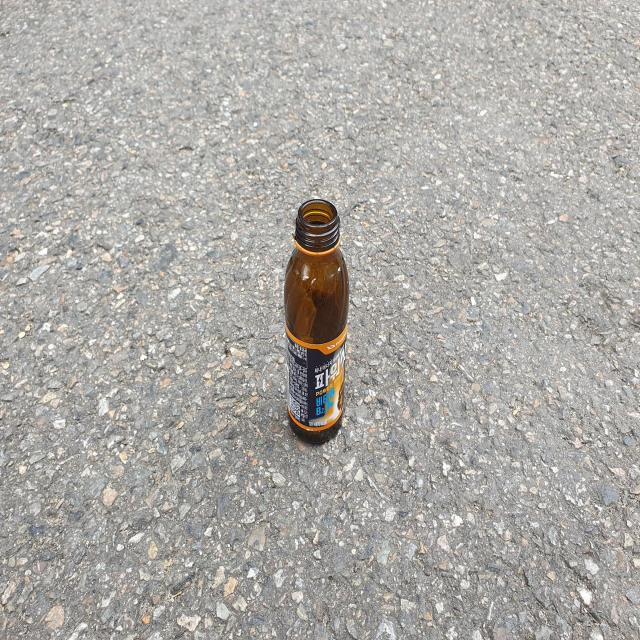glass: (284, 199, 349, 443)
